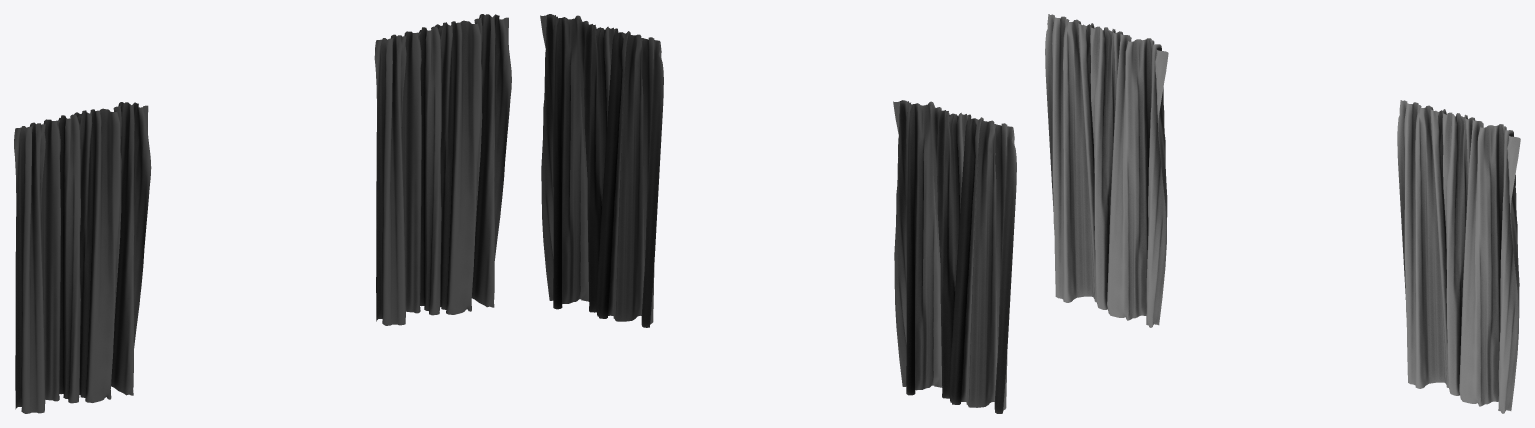
Rendered from Curtains_89182729.obj.
The picture shows the model from 3 angles, left to right: view 1: azimuth 30°, elevation 25°; view 2: azimuth 150°, elevation 25°; view 3: azimuth 330°, elevation 25°; orthographic projection. The views are drawn at different scales.
Parts seen in each view (by area): view 1: FP221:Curtain1_c0f3a1ec, FP221:Curtain1__c937d908; view 2: FP221:Curtain1_c0f3a1ec, FP221:Curtain1__c937d908; view 3: FP221:Curtain1_c0f3a1ec, FP221:Curtain1__c937d908.
Part boxes in pixels (x1,y1,x2,y2): FP221:Curtain1_c0f3a1ec: (14,102,151,413); FP221:Curtain1__c937d908: (374,14,511,325); FP221:Curtain1_c0f3a1ec: (893,100,1016,413); FP221:Curtain1__c937d908: (540,14,663,327); FP221:Curtain1_c0f3a1ec: (1045,14,1168,327); FP221:Curtain1__c937d908: (1397,100,1520,413).
Bounding box in the file's own units: 2.13 × 1.21 × 0.1672.
